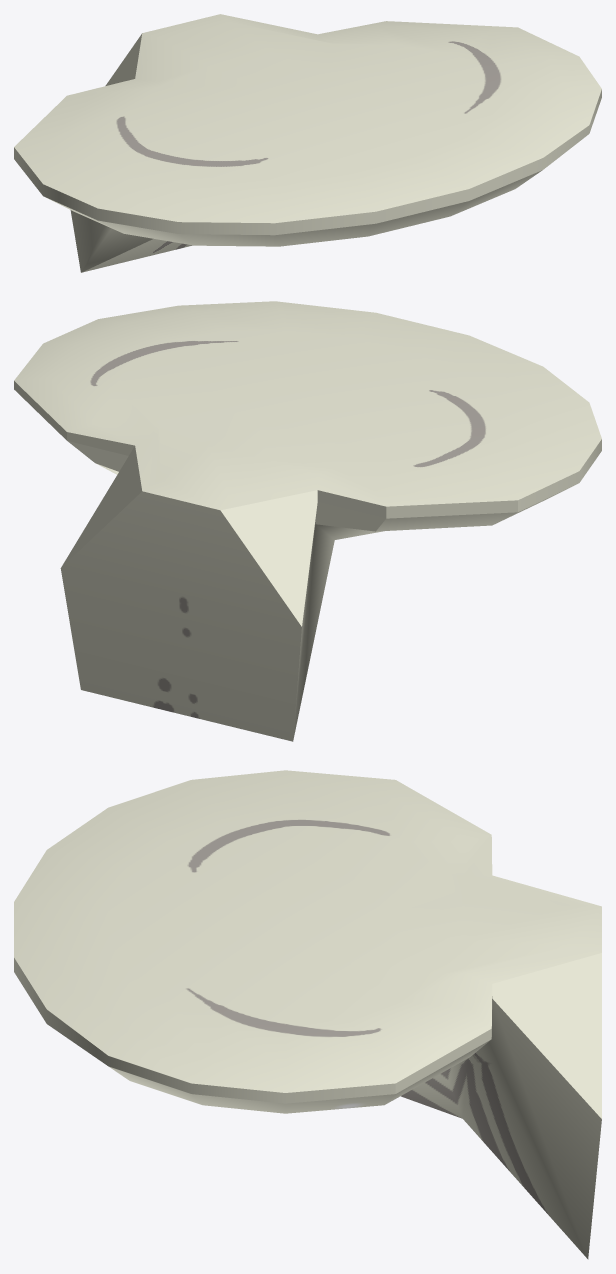
Rendered from wallshroom2.fbx.
The picture shows the model from 3 angles, top to bottom: view 1: azimuth 30°, elevation 25°; view 2: azimuth 150°, elevation 25°; view 3: azimuth 270°, elevation 25°; orthographic projection. The views are drawn at different scales.
Visible parts, largest first — view 1: Wallshroom2; view 2: Wallshroom2; view 3: Wallshroom2.
Part boxes in pixels (left/top/right/bottom): Wallshroom2: left=14, top=14, right=601, bottom=272; Wallshroom2: left=14, top=301, right=601, bottom=741; Wallshroom2: left=14, top=770, right=601, bottom=1259.
Bounding box in the file's own units: 53.26 × 21.74 × 41.52.
1 material, 1 textured.
